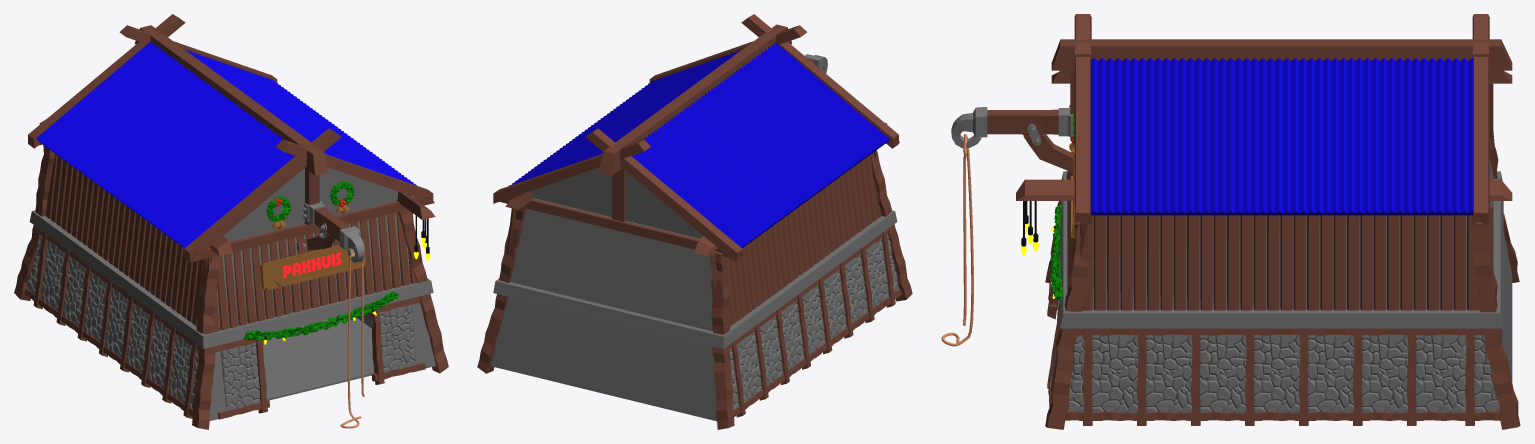
Rendered from WareHouse-1.glb.
The picture shows the model from 3 angles, left to right: view 1: azimuth 30°, elevation 25°; view 2: azimuth 150°, elevation 25°; view 3: azimuth 270°, elevation 25°; orthographic projection. The views are drawn at different scales.
Parts seen in each view (by area): view 1: GolfPlaat, WareHouse-1, Cube.689, Plane.846, Plane.845, GolfPlaat.001, Cube.674, Cube.693, Cube.694, Cube.676, Cube.555, Cube.679 (+19 smaller); view 2: WareHouse-1, GolfPlaat, Cube.689, Plane.846, GolfPlaat.001, Cube.674, Cube.678, Plane.844, Plane.842, Cube.683, Cube.676, Cube.681 (+9 smaller); view 3: GolfPlaat.001, Plane.847, Cube.687, WareHouse-1, Cube.674, Cube.681, Cube.680, Cube.699, Cube.652, Cube.686, Cube.685, Cube.682 (+8 smaller).
Boxes of the visible parts, x1,y1,x2,y2 form: GolfPlaat: (36,41,294,248); WareHouse-1: (29,200,435,420); Cube.689: (34,232,198,418); Plane.846: (46,154,212,325); Plane.845: (204,212,416,332); GolfPlaat.001: (185,50,416,185); Cube.674: (135,25,328,175); Cube.693: (367,296,425,384); Cube.694: (215,339,269,419); Cube.676: (184,128,341,262); Cube.555: (260,241,365,290); Cube.679: (188,195,434,262); WareHouse-1: (490,195,897,421); GolfPlaat: (632,42,889,248); Cube.689: (731,230,895,413); Plane.846: (710,152,881,326); GolfPlaat.001: (509,50,740,185); Cube.674: (598,24,791,175); Cube.678: (585,128,742,262); Plane.844: (532,167,611,217); Plane.842: (625,171,703,238); Cube.683: (499,196,741,259); Cube.676: (741,14,898,148); Cube.681: (493,139,650,203); GolfPlaat.001: (1090,57,1473,215); Plane.847: (1080,206,1493,310); Cube.687: (1079,328,1477,425); WareHouse-1: (1057,157,1512,381); Cube.674: (1051,39,1512,70); Cube.681: (1472,14,1489,224); Cube.680: (1074,14,1091,224); Cube.699: (987,109,1072,172); Cube.652: (1465,328,1500,425); Cube.686: (1483,328,1520,429); Cube.685: (1045,328,1078,429); Cube.682: (1016,179,1512,200).
Size of the model in its own units: 32.07 by 31.45 by 50.29.
